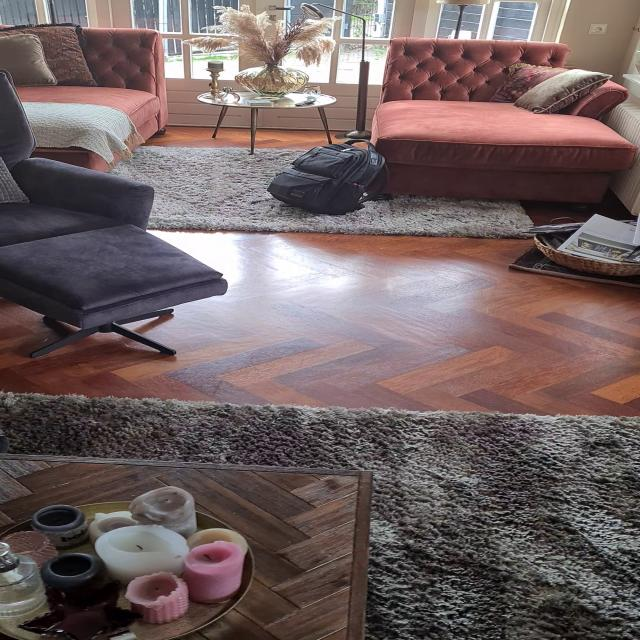backpack: (260, 138, 394, 216)
